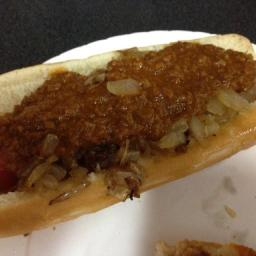hotdog: (2, 138, 15, 204)
